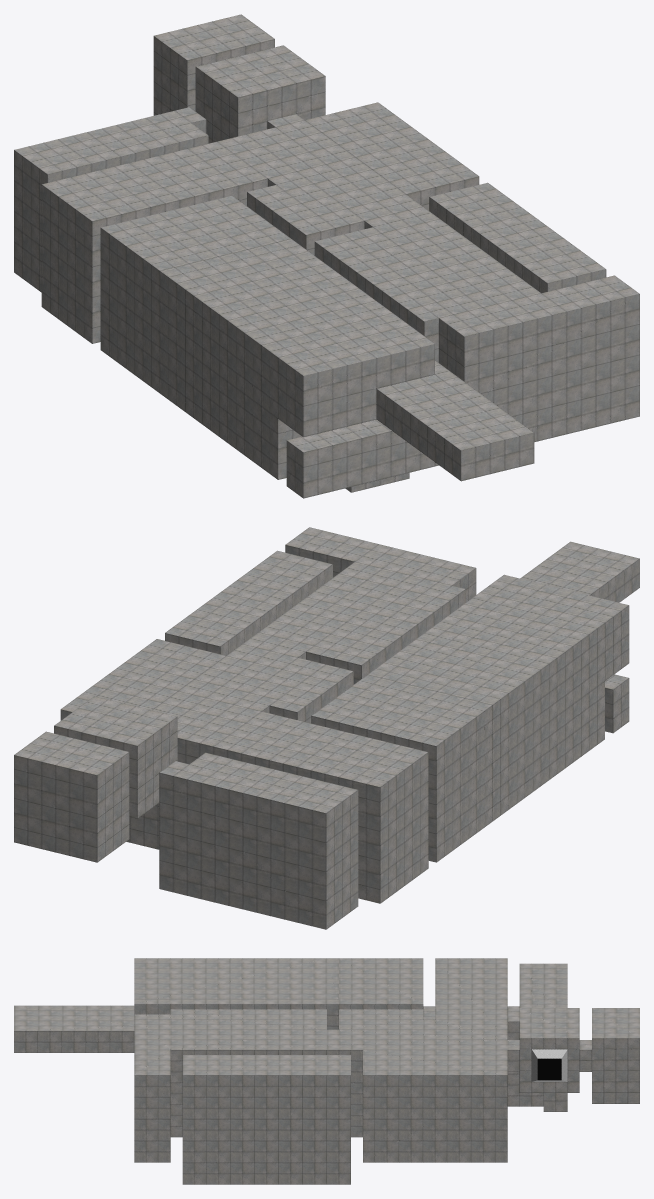
Rendered from PlayUpGrp1.dae.
The picture shows the model from 3 angles, top to bottom: view 1: azimuth 30°, elevation 25°; view 2: azimuth 150°, elevation 25°; view 3: azimuth 270°, elevation 25°; orthographic projection. The views are drawn at different scales.
Parts seen in each view (by area): view 1: mesh0%root%0%; view 2: mesh0%root%0%; view 3: mesh0%root%0%, mesh0%root%2%, mesh0%root%3%.
Boxes of the visible parts, box(x1,y1,x2,y2) form: mesh0%root%0%: box(14, 14, 639, 498); mesh0%root%0%: box(14, 527, 639, 929); mesh0%root%0%: box(14, 958, 639, 1184); mesh0%root%2%: box(531, 1049, 567, 1081); mesh0%root%3%: box(537, 1058, 561, 1080).
Bounding box in the file's own units: 23 × 12 × 52.
